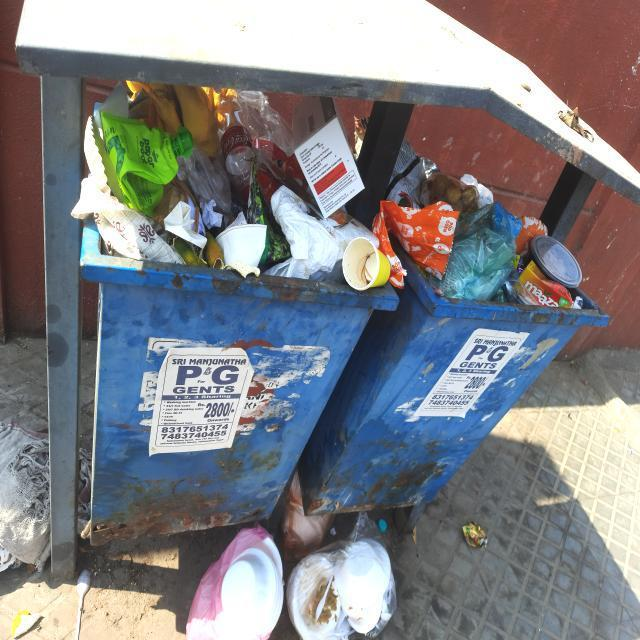Disposable: (286, 512, 396, 640), (186, 527, 284, 640), (281, 472, 335, 562), (136, 148, 138, 150)
Garbage: (81, 75, 602, 315), (168, 472, 412, 640), (238, 612, 239, 615)
Plastic: (101, 112, 194, 217), (531, 235, 582, 288), (378, 518, 388, 532), (241, 147, 242, 148)
Plastic_Bag: (269, 185, 379, 282), (429, 203, 522, 300), (236, 92, 308, 202), (176, 145, 231, 213), (420, 172, 480, 215), (501, 270, 539, 305)
Plastic_bottle: (215, 88, 255, 203)
Plastic_wraper: (246, 158, 291, 265), (386, 138, 439, 208), (462, 522, 488, 548), (515, 255, 525, 275), (571, 297, 584, 310)
Tetrapack: (519, 262, 572, 308)
